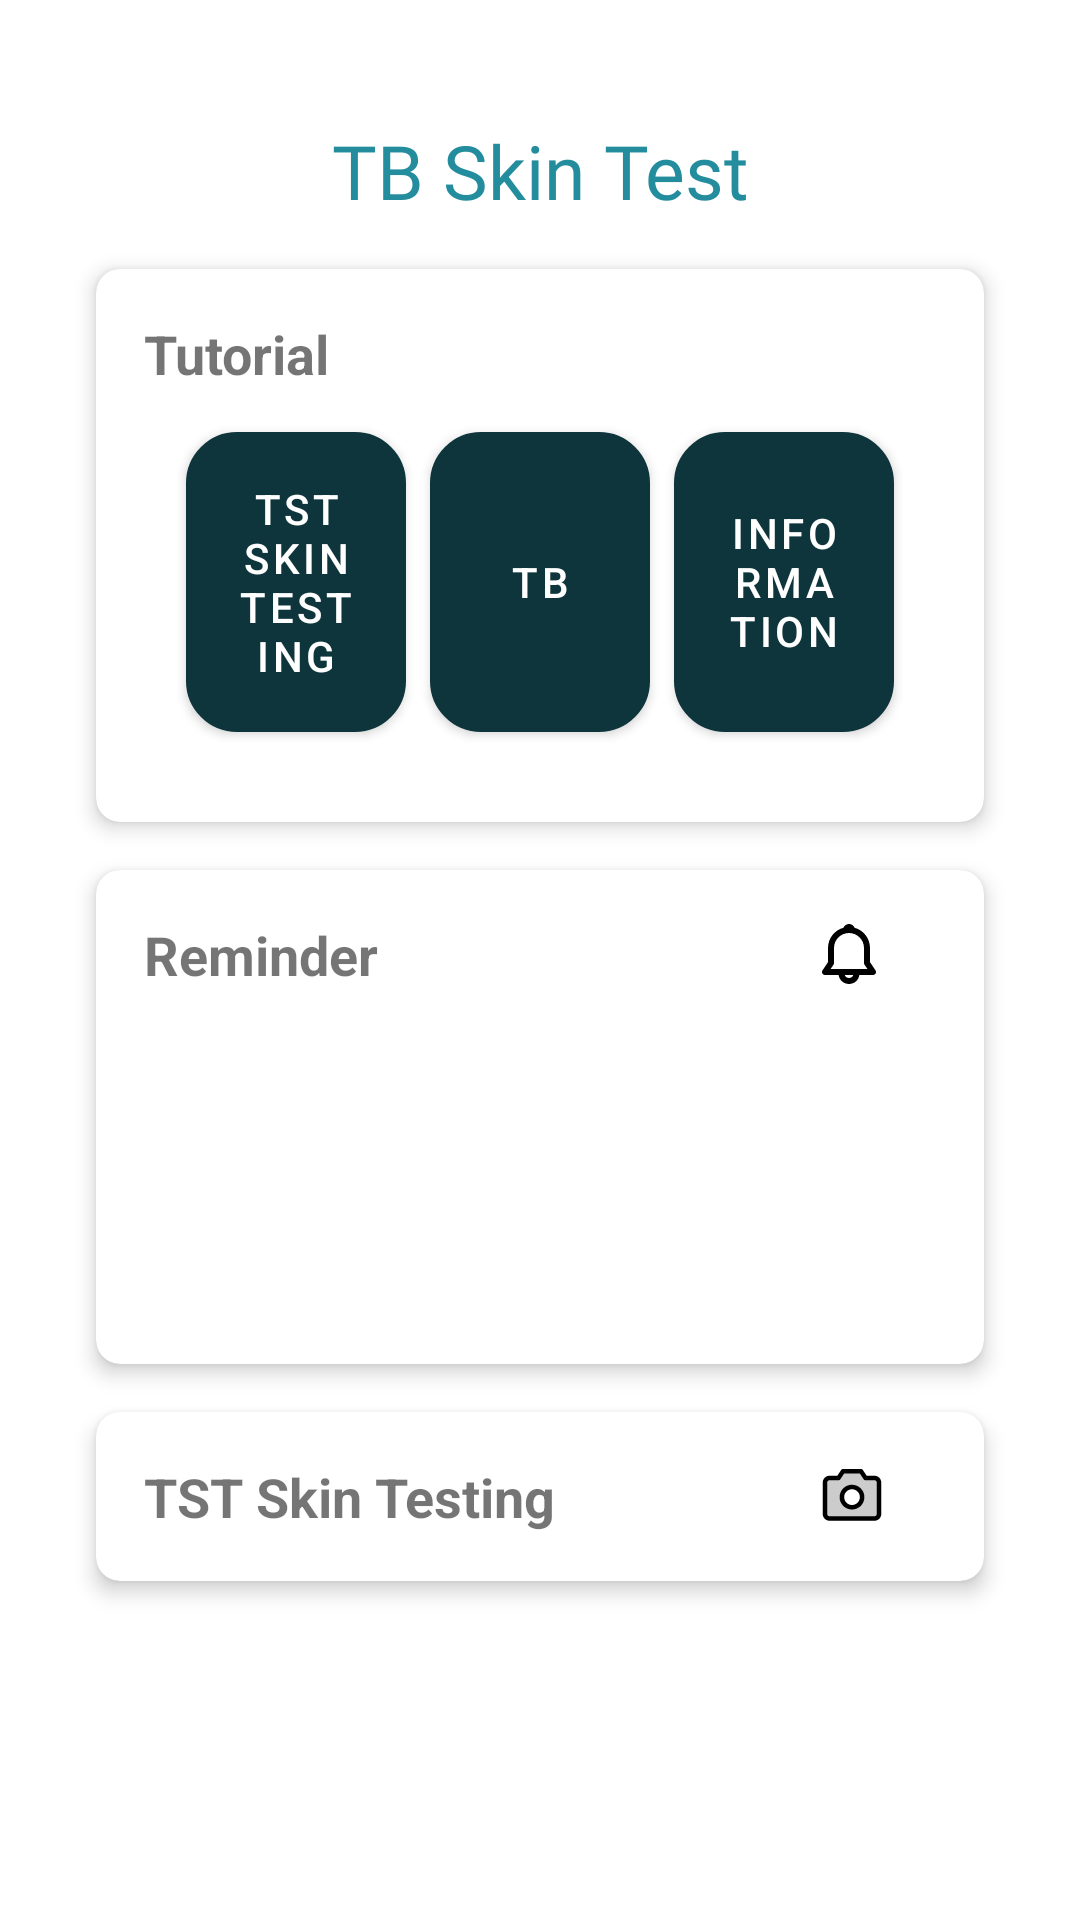

Screen size 1080 x 1920. Icon name, then its center in pixels as point (x, y):
camera: point (852, 1495)
notificationbutton: point (849, 954)
